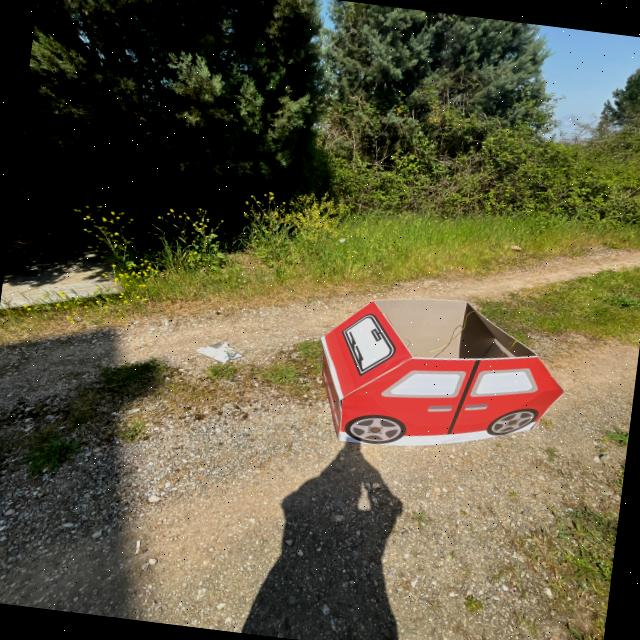red_car: (286, 278, 595, 479)
